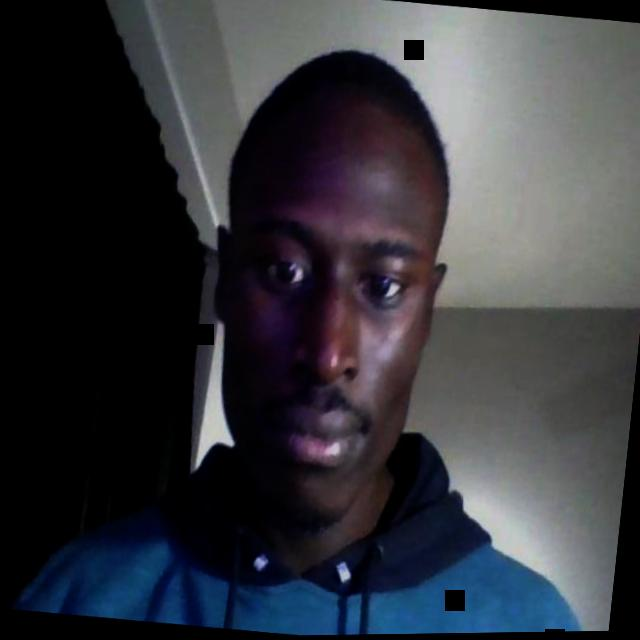NO-Mask: (199, 158, 445, 545)
